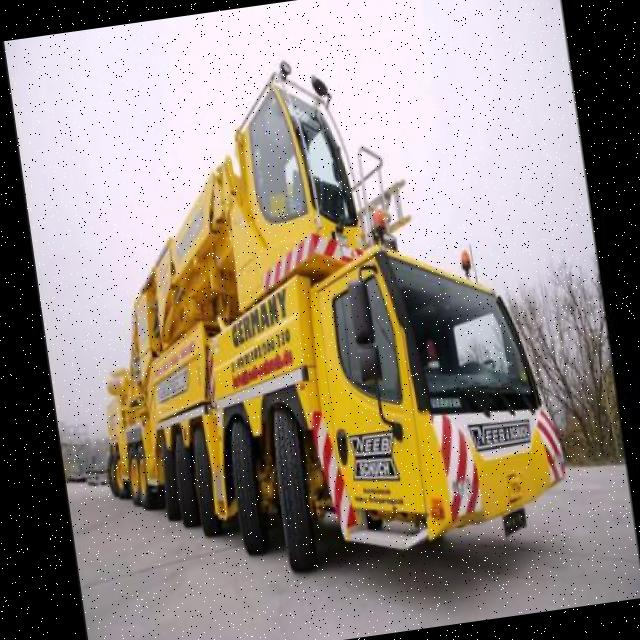Mobile Crane: (54, 41, 576, 600)
